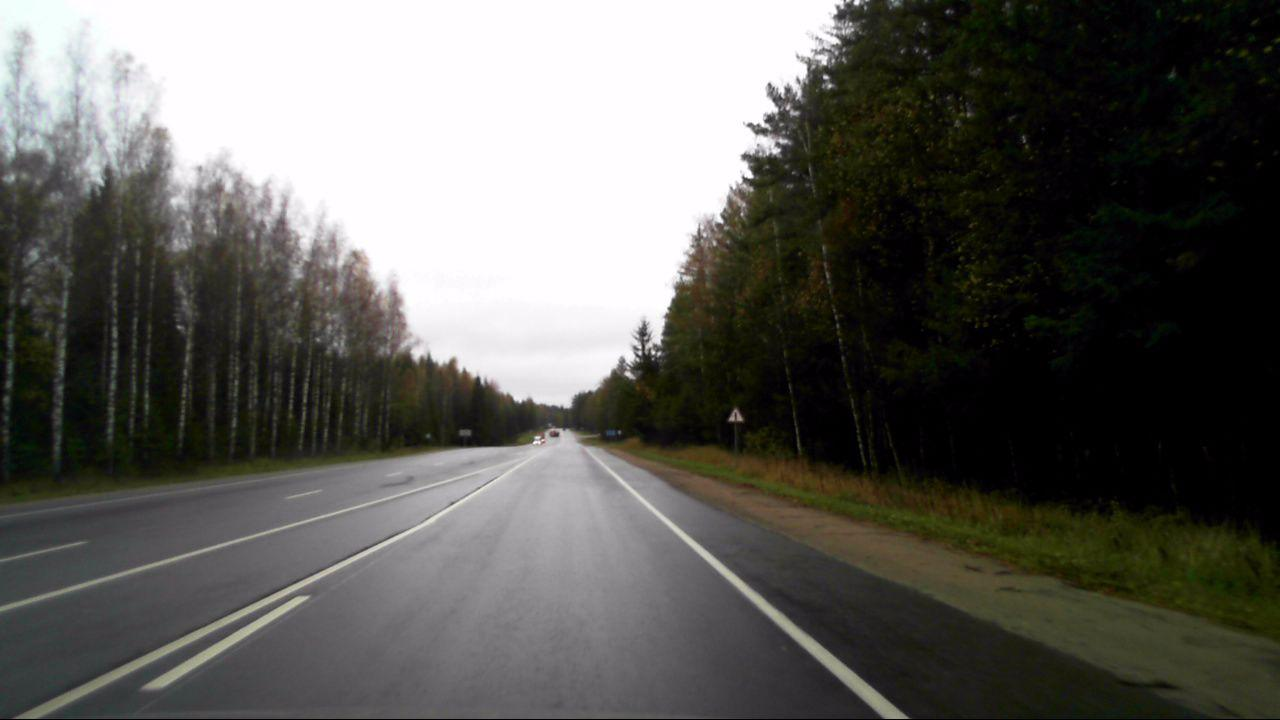road_sign: (726, 406, 745, 423)
